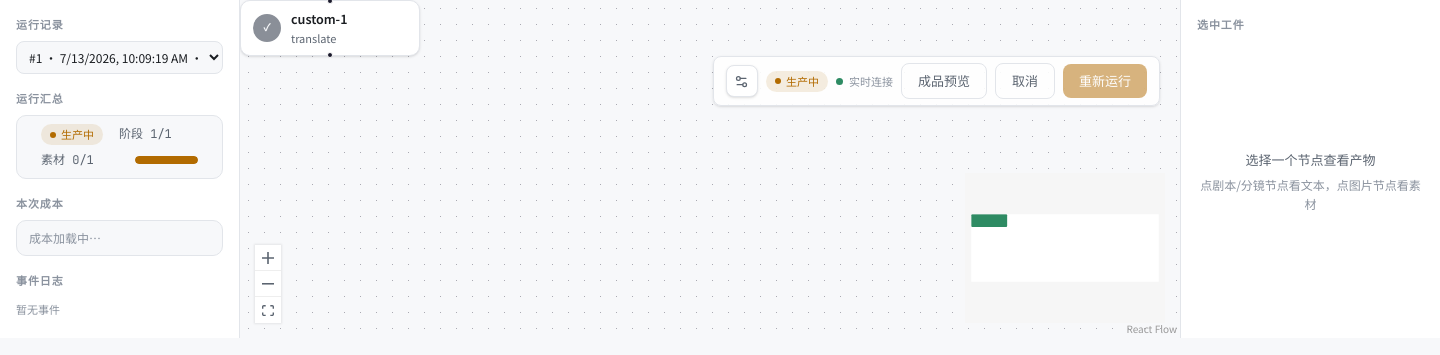
Test: RunCanvas per-item inspector (P5d) › renders index switcher for N>1 and switches the visible item (custom node, no drawer)
The width and height of the screenshot is (1440, 355).
What coordinates should you click on to do the following:
click the element with class "react-flow__node"
I would click on:
 (330, 32)
Its box is 240,0 -> 420,64.
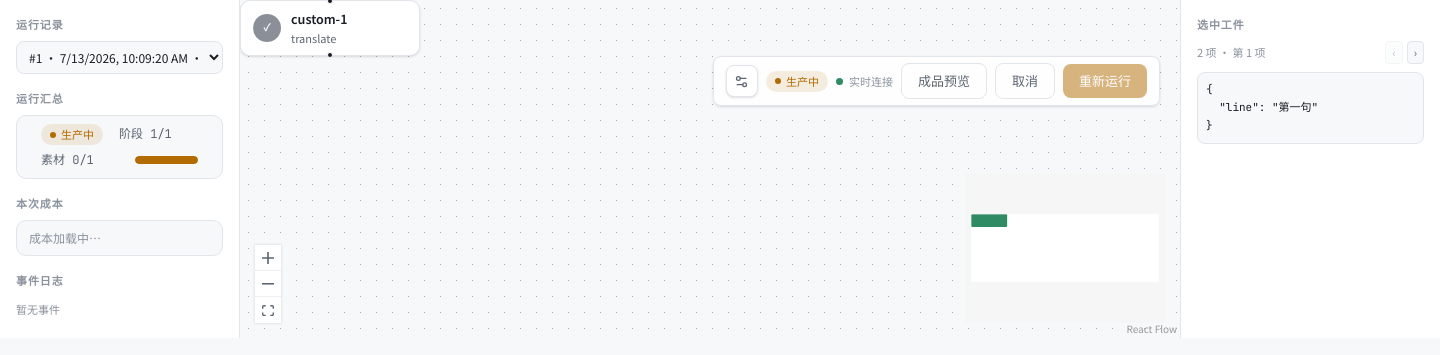
Expected: the text "第二句" is not shown
Result: the text "2 项 · 第 1 项" is shown at 1197,44 -> 1266,61
Result: the text "{ \"line\": \"第一句\" }" is shown at 1197,72 -> 1424,144
What coordinates should you click on to do the following:
click the button named "下一项"
I would click on:
 (1415, 52)
Its box is 1407,41 -> 1424,64.
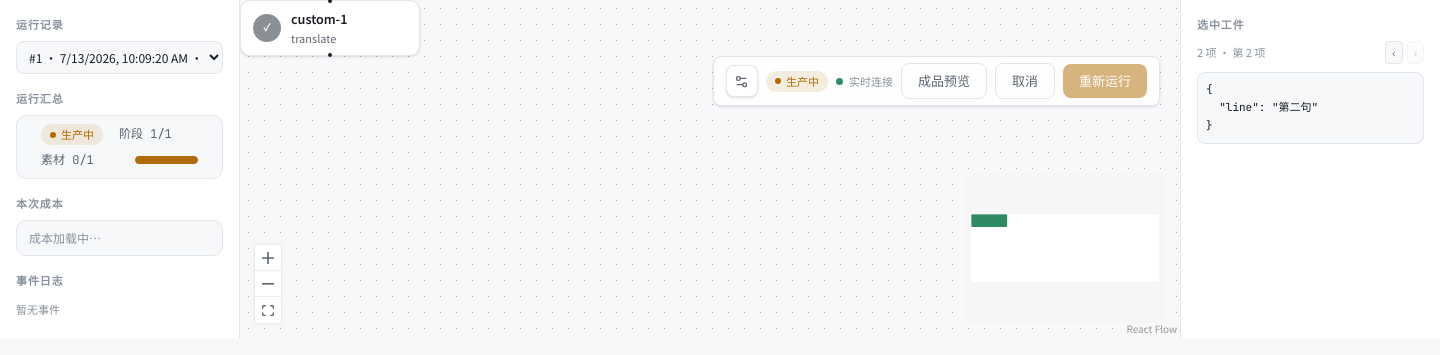
Result: the text "{ \"line\": \"第二句\" }" is shown at 1197,72 -> 1424,144
Result: the text "第一句" is gone
